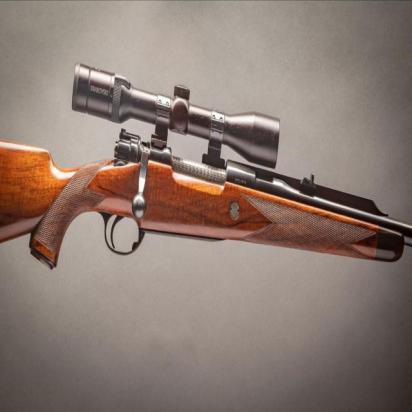Gun: (0, 62, 411, 291)
